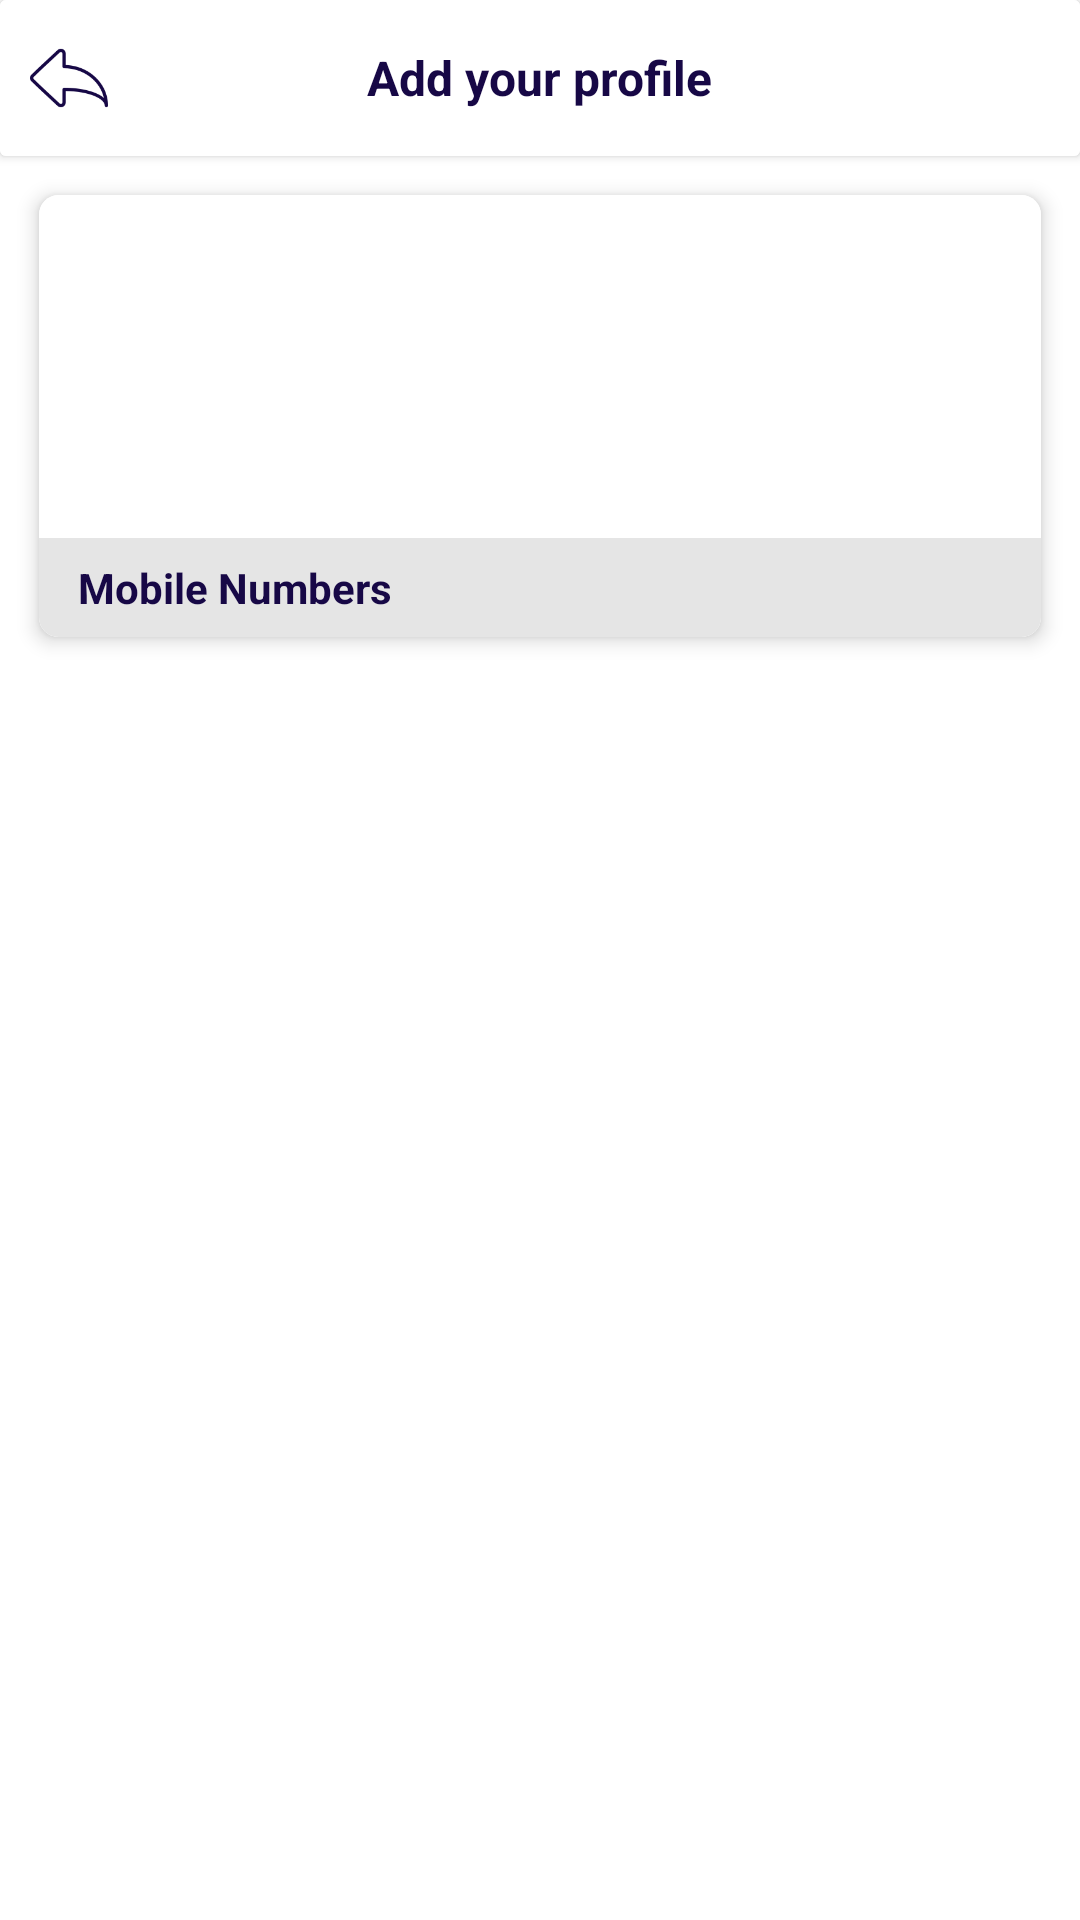

Where to tap for icons on this 1080 × 1920 app screen, as point (x, y):
return: point (69, 78)
